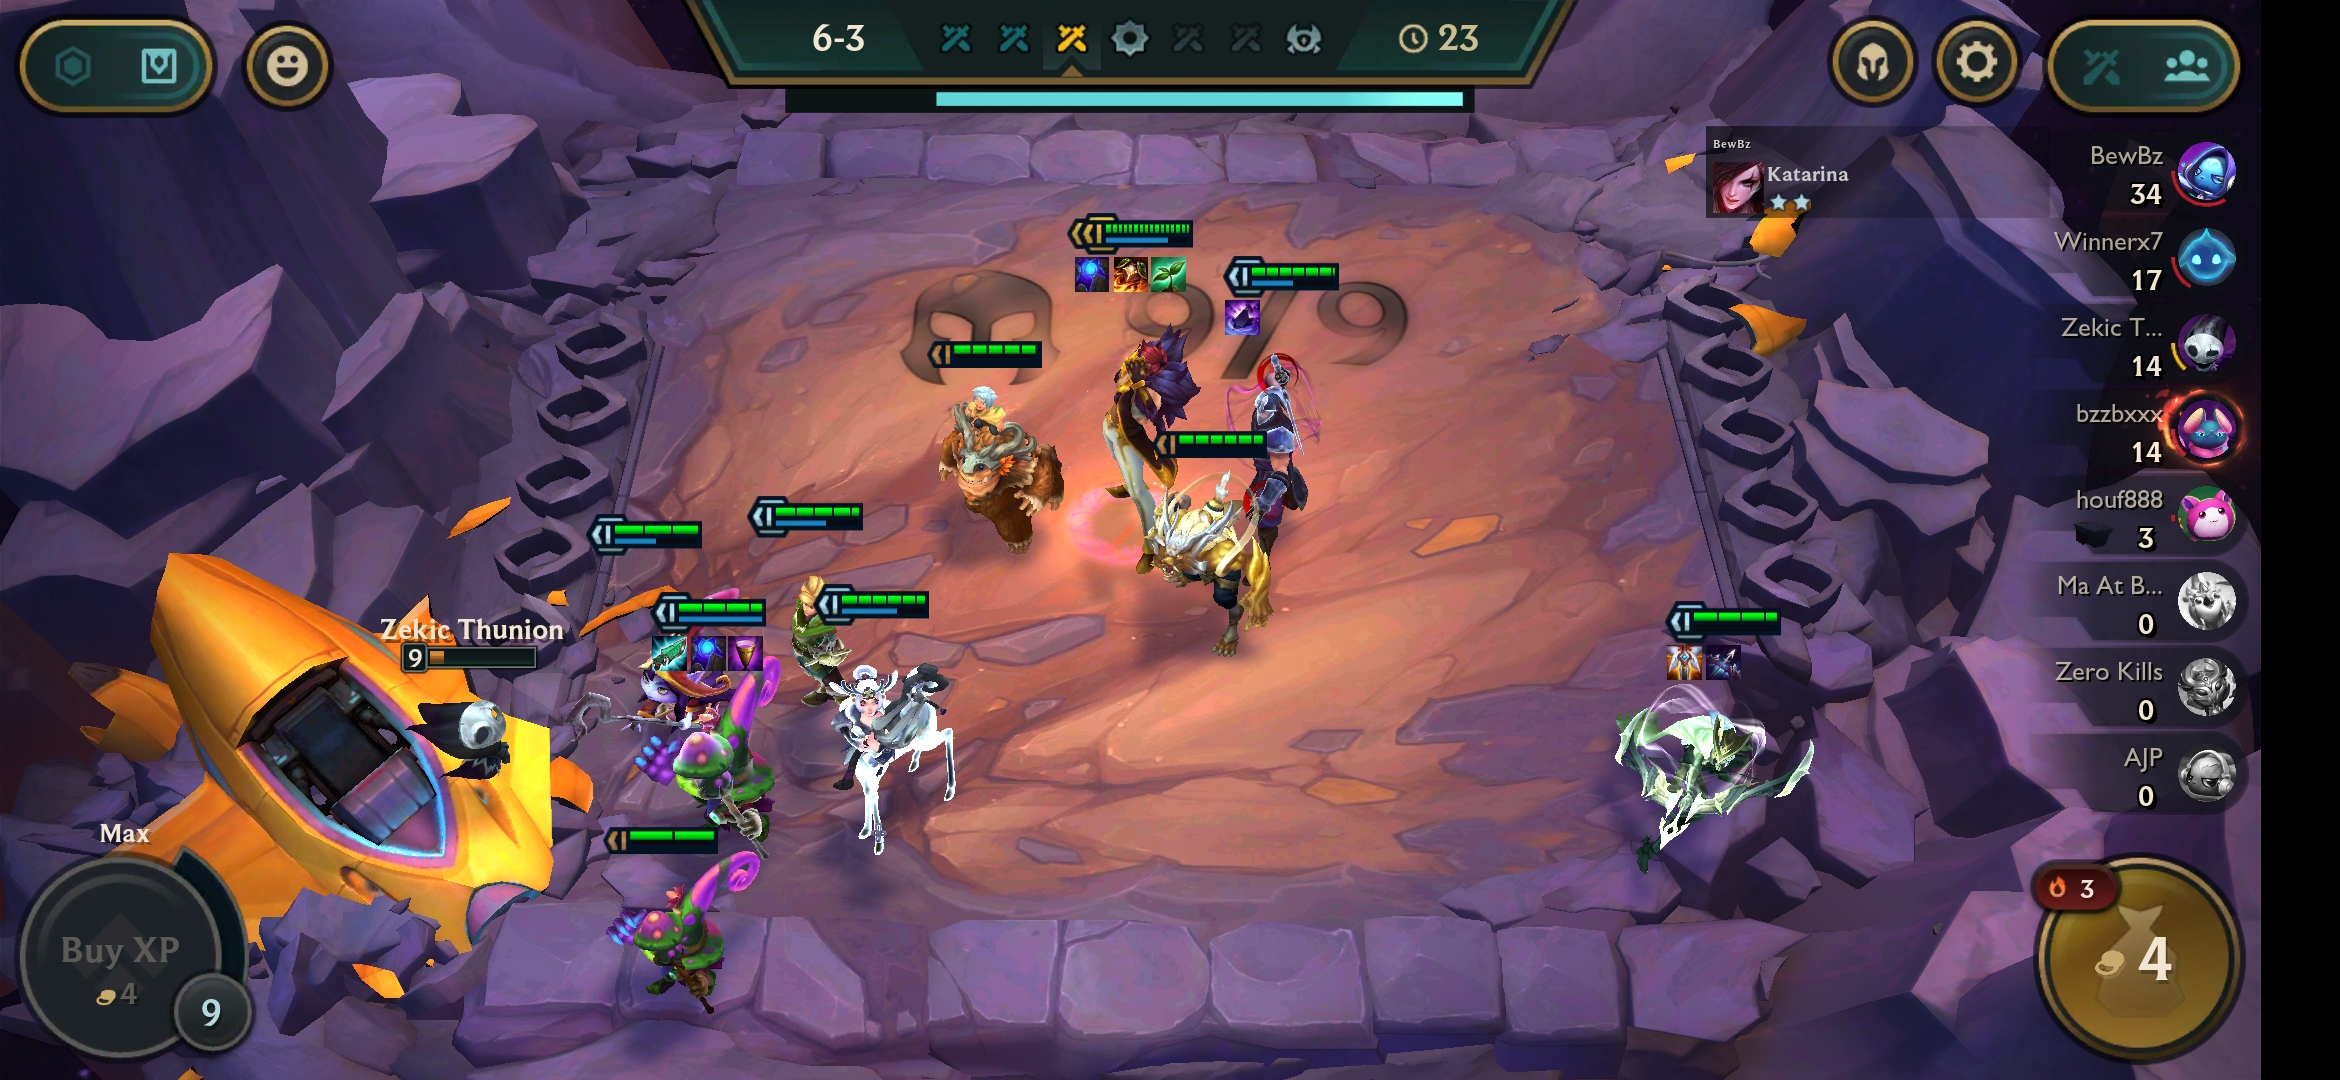1star_nunu: (895, 331, 1088, 570)
1star_veigar: (585, 811, 778, 1029)
1star_warwick: (1128, 427, 1297, 668)
2star_ashe: (1603, 585, 1852, 888)
2star_ezreal: (734, 480, 877, 722)
2star_lillia: (798, 567, 977, 885)
2star_lulu: (558, 503, 721, 759)
2star_shen: (1201, 237, 1363, 591)
2star_veigar: (625, 577, 788, 870)
3star_sett: (1049, 191, 1231, 601)
3star_sett_chosen: (1048, 189, 1230, 600)
item_bluebuff: (685, 630, 728, 677), (1072, 249, 1113, 295)
item_elderwood: (1149, 251, 1192, 297)
item_ga: (1662, 641, 1706, 689)
item_gunblade: (649, 628, 692, 674)
item_lastwhisper: (1701, 638, 1745, 685)
item_sunfire: (1109, 251, 1152, 297)
item_zzrot: (1222, 291, 1266, 339)
